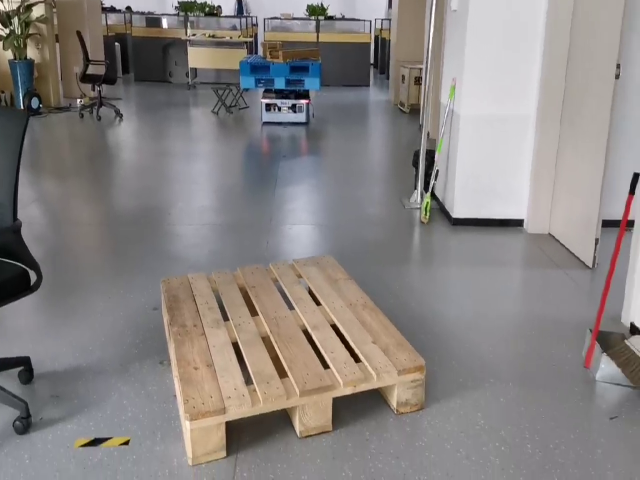block: (184, 409, 227, 466), (294, 394, 331, 434), (393, 375, 423, 412)
front: (186, 369, 428, 463)
hole pallet: (223, 410, 297, 460), (332, 387, 394, 430)
